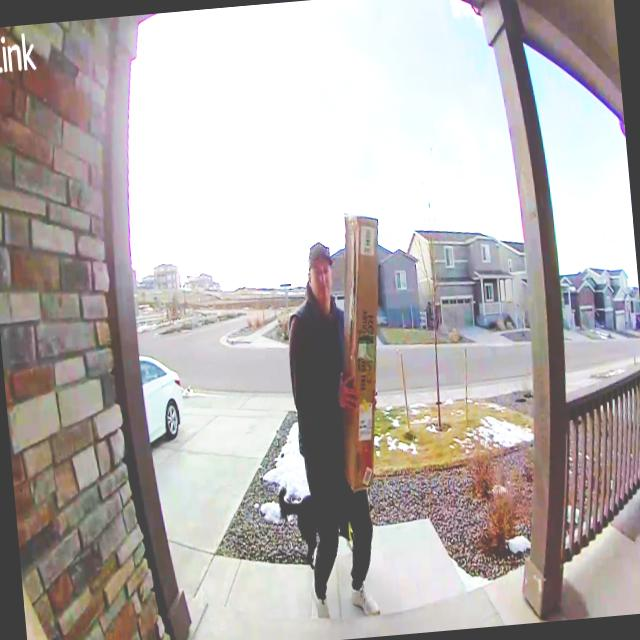Box: (324, 204, 403, 494)
